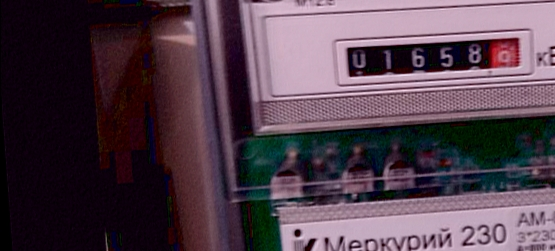0: (352, 45, 371, 67)
1: (382, 44, 398, 69)
5: (440, 42, 458, 67)
6: (411, 43, 431, 68)
8: (468, 39, 487, 63)
9: (498, 45, 515, 68)
screen: (332, 18, 542, 92)
